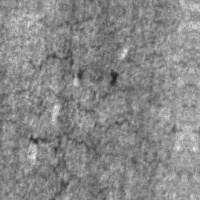crazing: (10, 86, 153, 156), (21, 15, 78, 78), (12, 151, 76, 199)
